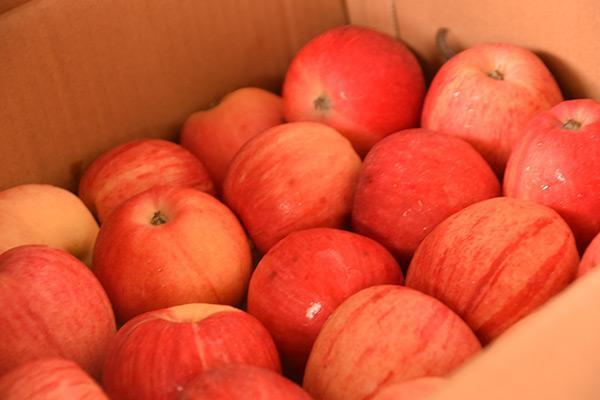apple: (406, 194, 570, 345), (90, 188, 254, 320), (246, 227, 404, 352), (304, 285, 478, 396), (278, 23, 425, 153), (350, 134, 494, 265), (423, 41, 560, 176), (225, 122, 367, 251), (1, 236, 116, 384), (98, 302, 282, 389)
